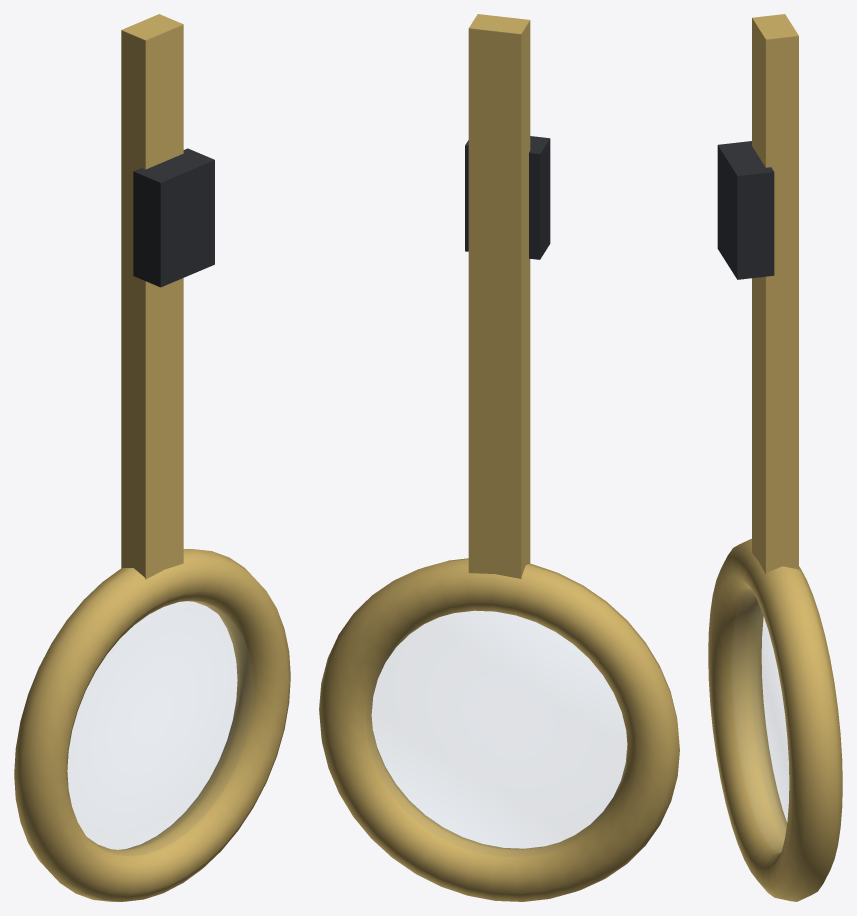
The model's file is lens.glb.
The picture shows the model from 3 angles, left to right: view 1: azimuth 30°, elevation 25°; view 2: azimuth 150°, elevation 25°; view 3: azimuth 270°, elevation 25°; orthographic projection.
Visible parts, largest first — view 1: log_lens_ring, log_lens_glass, log_lens_arm, log_lens_grip; view 2: log_lens_ring, log_lens_glass, log_lens_arm, log_lens_grip; view 3: log_lens_ring, log_lens_arm, log_lens_grip, log_lens_glass.
Part boxes in pixels (x1,y1,x2,y2): log_lens_ring: (14,549,290,901); log_lens_glass: (68,601,240,849); log_lens_arm: (121,14,183,579); log_lens_grip: (133,148,214,287); log_lens_ring: (319,558,679,901); log_lens_glass: (372,611,626,848); log_lens_arm: (468,14,530,578); log_lens_grip: (465,136,550,259); log_lens_ring: (708,538,842,901); log_lens_arm: (752,14,798,574); log_lens_grip: (717,141,774,279); log_lens_glass: (750,602,788,838).
Bounding box in the file's own units: 0.0927 × 0.248 × 0.0352.
